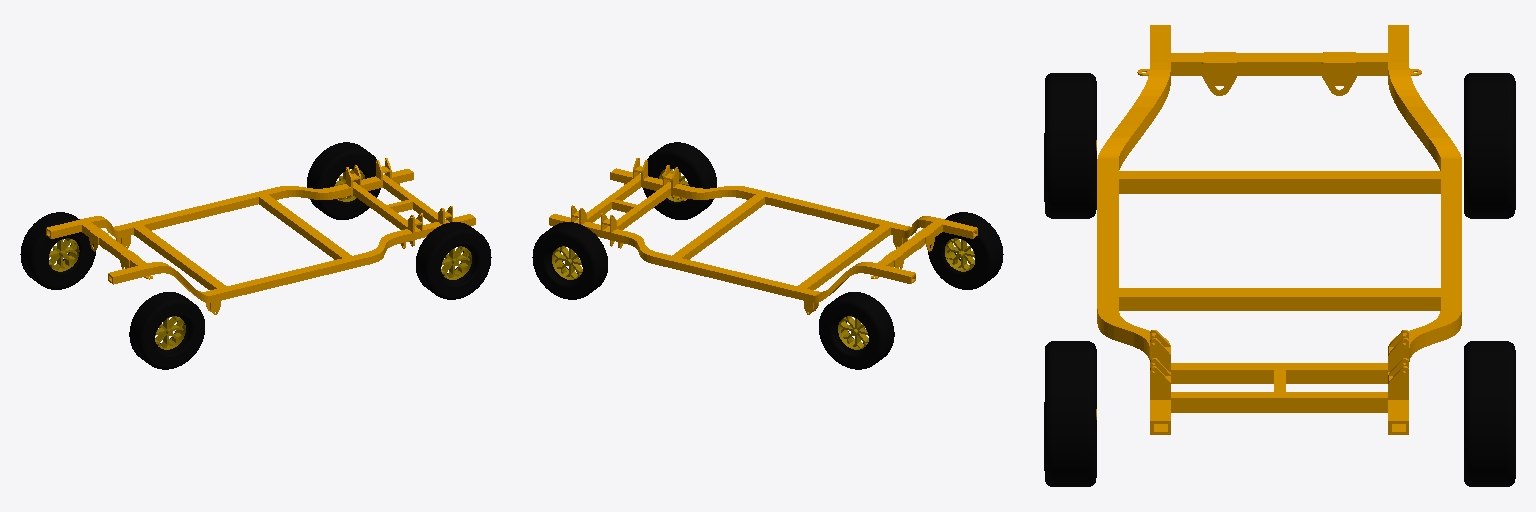
robot.urdf — simpleVehicle:
<?xml version="1.0" ?>
<!-- @file Krang.urdf -->
<!-- @author [author] -->
<!-- @date May 10, 2013 -->
<!-- @brief This file contains the .urdf definition for Krang. -->
<!-- NOTE: The center of mass locations are taken from the MassTable by summing up the -->
<!-- individual part values for the sections (which correspond to nodes here). -->
<!-- TODO: Set the center of mass locations -->
<!-- TODO: Set the correct masses. Note that the dae models have the brackets divided in two and -->
<!-- connected to the middle motor for which we do not have measurements. -->
<!-- NOTE: The bounding box values are taken by finding the min and max values of the dae files. -->

<robot name="simpleVehicle">
	
	<!-- ======================================================================================================== -->
	<!-- ============================================== Links =================================================== -->
	<!-- ======================================================================================================== -->

	<link name = "Chassis"> 
	    <inertial>
	      <mass value="30.0"/>
	      <inertia ixx="1.0" ixy="1.0" ixz="1.0" iyy="1.0" iyz="1.0" izz="1.0"/>
	      <origin xyz="0 0 0"/>
	    </inertial>
		<visual> 
			<geometry> 
				<mesh filename="CAD/chassis.dae" /> 
			</geometry>
		</visual>
	</link>

	<link name = "FRUpright">
		<inertial>
	      <mass value="1.0"/>
	      <inertia ixx="1.0" ixy="1.0" ixz="1.0" iyy="1.0" iyz="1.0" izz="1.0"/>
	      <origin xyz="0 0 0"/>
	    </inertial>
	</link>
	<link name = "FLUpright">
		<inertial>
	      <mass value="1.0"/>
	      <inertia ixx="1.0" ixy="1.0" ixz="1.0" iyy="1.0" iyz="1.0" izz="1.0"/>
	      <origin xyz="0 0 0"/>
	    </inertial>
	</link>


	<link name = "FRTurn">
		<inertial>
	      <mass value="0.1"/>
	      <inertia ixx="0.1" ixy="0.1" ixz="0.1" iyy="0.1" iyz="0.1" izz="0.1"/>
	      <origin xyz="0 0 0"/>
	    </inertial>
	</link>
	<link name = "FLTurn">
		<inertial>
	      <mass value="0.1"/>
	      <inertia ixx="0.1" ixy="0.1" ixz="0.1" iyy="0.1" iyz="0.1" izz="0.1"/>
	      <origin xyz="0 0 0"/>
	    </inertial>
	</link>

	<link name = "RRUpright">
		<inertial>
	      <mass value="1.0"/>
	      <inertia ixx="1.0" ixy="1.0" ixz="1.0" iyy="1.0" iyz="1.0" izz="1.0"/>
	      <origin xyz="0 0 0"/>
	    </inertial>
	</link>
	<link name = "RLUpright">
		<inertial>
	      <mass value="1.0"/>
	      <inertia ixx="1.0" ixy="1.0" ixz="1.0" iyy="1.0" iyz="1.0" izz="1.0"/>
	      <origin xyz="0 0 0"/>
	    </inertial>
	</link>

	<link name = "FRWheel">
		<inertial>
	      <mass value="25.0"/>
	      <inertia ixx="1.45" ixy="0.0" ixz="0.0" iyy="1.45" iyz="0.0" izz="2.58"/>
	      <origin xyz="0 0 0"/>
	    </inertial>
	    <visual> 
			<geometry> 
				<mesh filename="CAD/wheel2.dae" /> 
			</geometry>
		</visual>
		<collision> 
			<geometry> 
				<cylinder length="0.2" radius="0.4" />
			 </geometry> 
			 <origin rpy="1.57 0 0"/>
		</collision>
	</link>


	<link name = "FLWheel">
		<inertial>
	      <mass value="25.0"/>
	      <inertia ixx="1.45" ixy="0.0" ixz="0.0" iyy="1.45" iyz="0.0" izz="2.58"/>
	      <origin xyz="0 0 0"/>
	    </inertial>
	    <visual> 
			<geometry> 
				<mesh filename="CAD/wheel2.dae" /> 
			</geometry>
		</visual>
		<collision> 
			<geometry> 
				<cylinder length="0.2" radius="0.4" />
			 </geometry> 
			 <origin rpy="1.57 0 0"/>
		</collision> 
	</link>


	<link name = "RRWheel">
		<inertial>
	      <mass value="25.0"/>
	      <inertia ixx="1.45" ixy="0.0" ixz="0.0" iyy="1.45" iyz="0.0" izz="2.58"/>
	      <origin xyz="0 0 0"/>
	    </inertial>
	    <visual> 
			<geometry> 
				<mesh filename="CAD/wheel2.dae" /> 
			</geometry>
		</visual>
		<collision> 
			<geometry> 
				<cylinder length="0.2" radius="0.4" />
			 </geometry> 
			 <origin rpy="1.57 0 0"/>
		</collision> 
	</link>


	<link name = "RLWheel">
		<inertial>
	      <mass value="25.0"/>
	      <inertia ixx="1.45" ixy="0.0" ixz="0.0" iyy="1.45" iyz="0.0" izz="2.58"/>
	      <origin xyz="0 0 0"/>
	    </inertial>
	    <visual> 
			<geometry> 
				<mesh filename="CAD/wheel2.dae" /> 
			</geometry>
		</visual>
		<collision> 
			<geometry> 
				<cylinder length="0.2" radius="0.4" />
			 </geometry> 
			 <origin rpy="1.57 0 0"/>
		</collision> 
	</link>

	<!-- ======================================================================================================== -->
	<!-- ============================================ Joints ==================================================== -->
	<!-- ======================================================================================================== -->

	<joint name="Chassis_FRUpright" type="prismatic"> 
		<parent link="Chassis" /> <child link="FRUpright" />
		<origin xyz = "1.90 -1.2 -0.3"/>
		<axis xyz="0 0 1" /> 
		<limit effort="1000" lower="-0.2" upper="0.15" velocity="1000" />
	</joint>

	<joint name="Chassis_FLUpright" type="prismatic"> 
		<parent link="Chassis" /> <child link="FLUpright" />
		<origin xyz = "1.90 1.2 -0.3"/>
		<axis xyz="0 0 1" /> 
		<limit effort="1000" lower="-0.2" upper="0.15" velocity="1000" />
	</joint>

	<joint name="Chassis_RRUpright" type="prismatic"> 
		<parent link="Chassis" /> <child link="RRUpright" />
		<origin xyz = "-1.7077 -1.2 -0.3"/>
		<axis xyz="0 0 1" /> 
		<limit effort="1000" lower="-0.2" upper="0.15" velocity="1000" />
	</joint>

	<joint name="Chassis_RLUpright" type="prismatic"> 
		<parent link="Chassis" /> <child link="RLUpright" />
		<origin xyz = "-1.7077 1.2 -0.3"/>
		<axis xyz="0 0 1" /> 
		<limit effort="1000" lower="-0.2" upper="0.15" velocity="1000" />
	</joint>



	<joint name="FRUpright_FRTurn" type="revolute">
		<parent link="FRUpright"/> <child link="FRTurn" />
		<axis xyz="0 0 1"/>
		<limit effort="1000" lower="-0.2" upper="0.15" velocity="1000" />
	</joint>

	<joint name="FLUpright_FLTurn" type="revolute">
		<parent link="FLUpright"/> <child link="FLTurn" />
		<axis xyz="0 0 1"/>
		<limit effort="1000" lower="-0.2" upper="0.15" velocity="1000" />
	</joint>



	<joint name="FRTurn_FRWheel" type="revolute"> 
		<parent link="FRTurn" /> <child link="FRWheel" />
		<origin rpy="0 0 3.14"/>
		<axis xyz="0 -1 0" /> 
		<limit effort="10" lower="-1000" upper="1000" velocity="10" />
	</joint>

	<joint name="FLTurn_FLWheel" type="revolute"> 
		<parent link="FLTurn" /> <child link="FLWheel" />
		<axis xyz="0 1 0" /> 
		<limit effort="10" lower="-1000" upper="1000" velocity="10" />
	</joint>

	<joint name="RRUpright_RRWheel" type="revolute"> 
		<parent link="RRUpright" /> <child link="RRWheel" />
		<origin rpy="0 0 3.14"/>
		<axis xyz="0 -1 0" /> 
		<limit effort="10" lower="-1000" upper="1000" velocity="10" />
	</joint>

	<joint name="RLUpright_RLWheel" type="revolute"> 
		<parent link="RLUpright" /> <child link="RLWheel" />
		<axis xyz="0 1 0" /> 
		<limit effort="10" lower="-1000" upper="1000" velocity="10" />
	</joint>


<!-- Actual values for Chassis and Wheels, which result in a poor simulation -->
<!-- <mass value="25.0"/>
	      <inertia ixx="1.45" ixy="0.0" ixz="0.0" iyy="1.45" iyz="0.0" izz="2.58"/>
<mass value="2540.0"/>
	      <inertia ixx="1295.19" ixy="266.23" ixz="0.0" iyy="5701.50" iyz="1.0" izz="4492.40"/> -->

<!-- Values for Chassis and Wheels that work nicely -->
	 <!--  <mass value="1.0"/>
	      <inertia ixx="1.0" ixy="1.0" ixz="1.0" iyy="1.0" iyz="1.0" izz="1.0"/>
	  <mass value="1.0"/>
	      <inertia ixx="1.0" ixy="1.0" ixz="1.0" iyy="1.0" iyz="1.0" izz="1.0"/> -->

</robot>

--- Render facts (derived) ---
The picture shows the robot from 3 angles, left to right: view 1: azimuth 30°, elevation 25°; view 2: azimuth 150°, elevation 25°; view 3: azimuth 270°, elevation 25°; orthographic projection.
Robot: simpleVehicle — 11 links, 10 joints (6 revolute, 4 prismatic); root link Chassis; default pose: every joint at zero.
Visible links, largest first — view 1: Chassis, FRWheel, RRWheel, RLWheel, FLWheel; view 2: Chassis, RLWheel, FLWheel, RRWheel, FRWheel; view 3: Chassis, RRWheel, FRWheel, RLWheel, FLWheel.
Link boxes in pixels (x1,y1,x2,y2): Chassis: [46, 158, 475, 314]; FRWheel: [416, 222, 491, 299]; RRWheel: [129, 292, 204, 369]; RLWheel: [20, 212, 95, 289]; FLWheel: [307, 142, 380, 219]; Chassis: [549, 158, 977, 314]; RLWheel: [819, 292, 894, 369]; FLWheel: [532, 222, 607, 299]; RRWheel: [928, 212, 1003, 289]; FRWheel: [643, 142, 716, 219]; Chassis: [1097, 25, 1461, 434]; RRWheel: [1044, 73, 1096, 218]; FRWheel: [1044, 341, 1096, 486]; RLWheel: [1464, 73, 1515, 218]; FLWheel: [1464, 341, 1515, 486].
Bounding box of the posed robot: 4.57 × 2.67 × 0.977 m (x, y, z).
Meshes: 2 distinct files referenced, 5 mesh visuals loaded (2 Collada DAE).